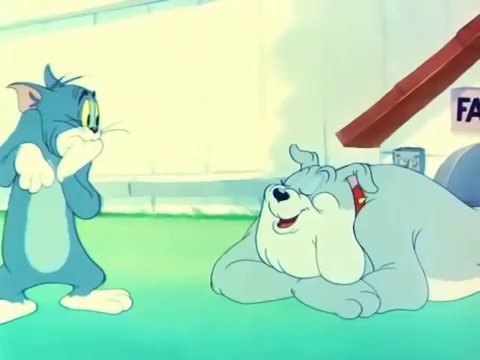spike: (255, 142, 381, 286)
tom: (5, 60, 113, 175)
